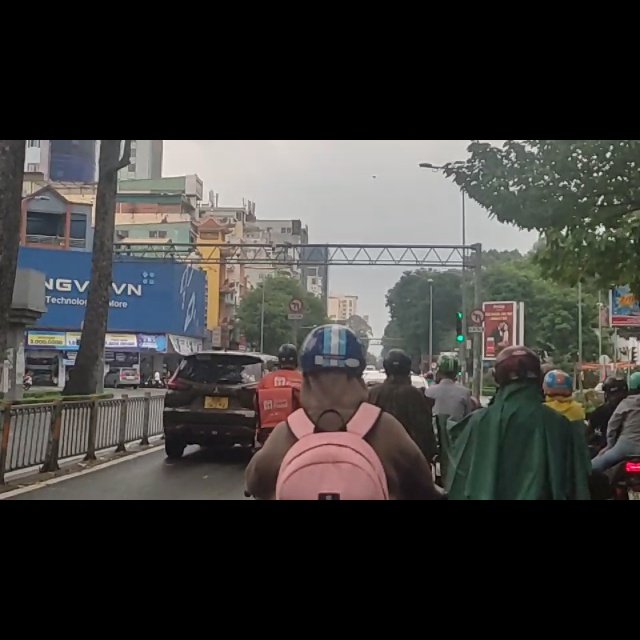bien_cam: (287, 277, 304, 307), (471, 297, 486, 326)
